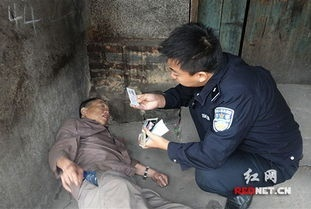falling: (48, 88, 195, 209)
